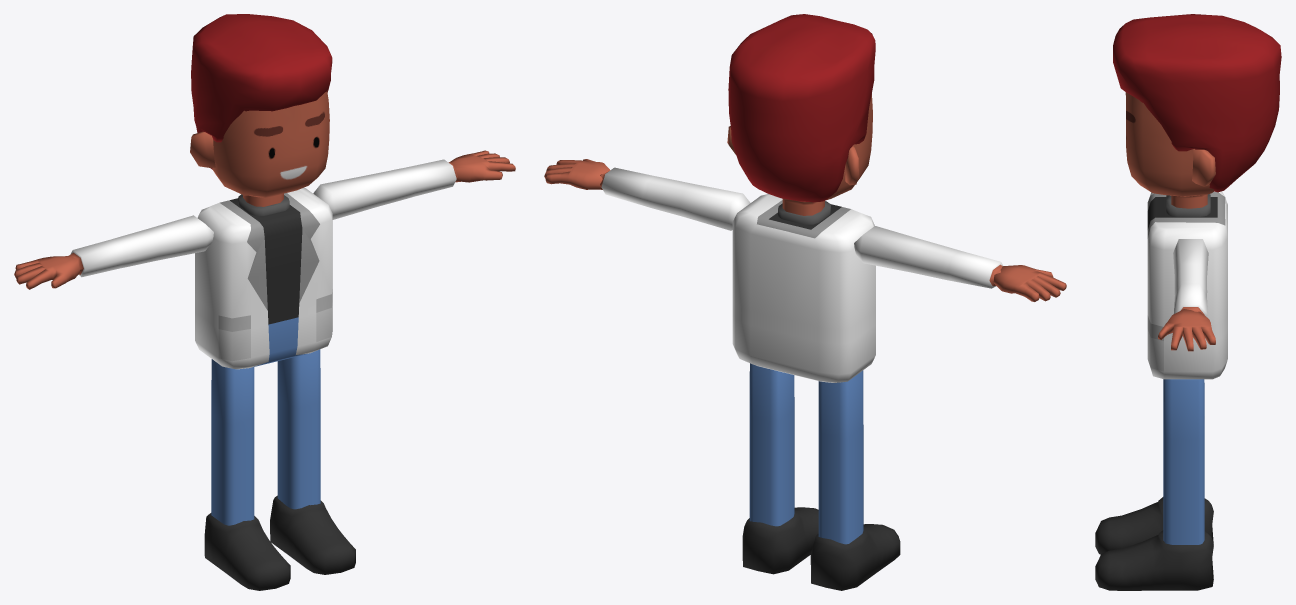
File: NPC_Black01_RedHair06.gltf
The picture shows the model from 3 angles, left to right: view 1: azimuth 30°, elevation 25°; view 2: azimuth 150°, elevation 25°; view 3: azimuth 270°, elevation 25°; orthographic projection. The views are drawn at different scales.
Parts seen in each view (by area): view 1: NPC_Corpo_Black1_RedHair.006; view 2: NPC_Corpo_Black1_RedHair.006; view 3: NPC_Corpo_Black1_RedHair.006.
Boxes of the visible parts, x1=… form: NPC_Corpo_Black1_RedHair.006: x1=14, y1=14, x2=515, y2=590; NPC_Corpo_Black1_RedHair.006: x1=544, y1=14, x2=1066, y2=590; NPC_Corpo_Black1_RedHair.006: x1=1095, y1=14, x2=1281, y2=590.
Bounding box in the file's own units: 2.31 × 2.31 × 0.7282.
Materials: 1 (1 with a texture image).
